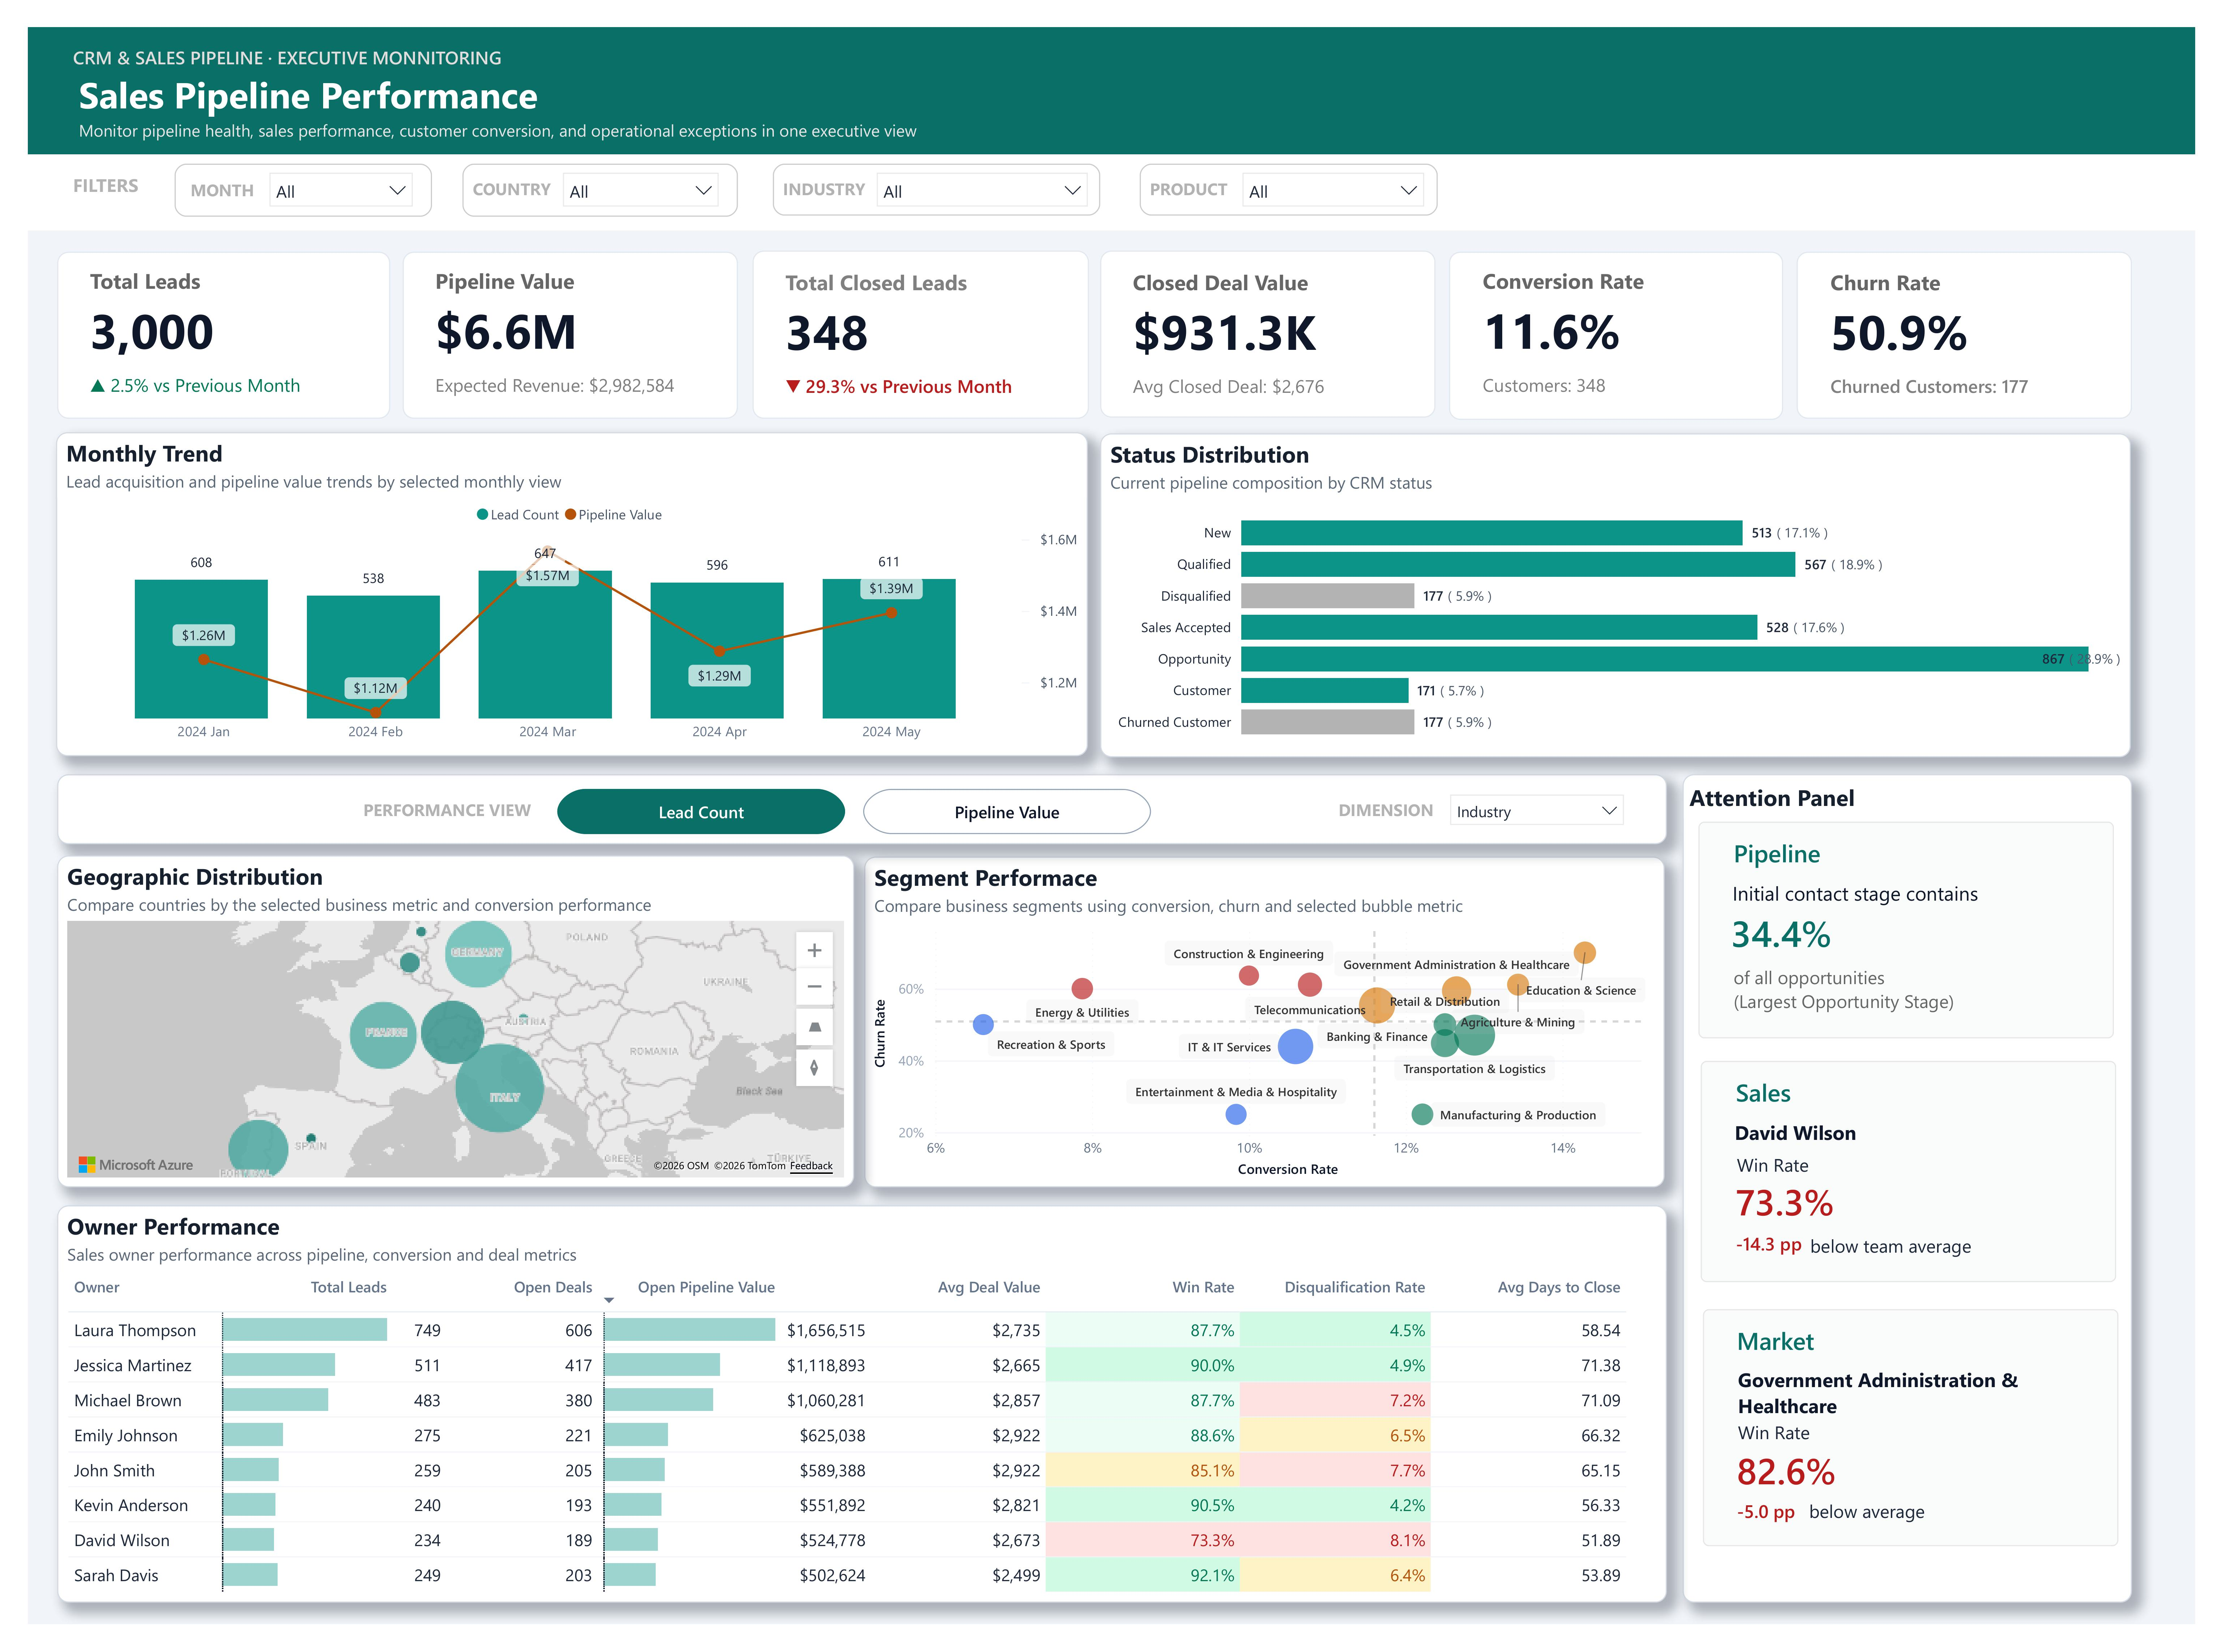

The dashboard page shown, as its layout file describes it:
{"tool":"powerbi","page":{"name":"Dashboard","canvas":[1920,1415],"ordinal":0},"visuals":[{"type":"shape","box":[660,121,290,46],"z":0,"group":"g4"},{"type":"shape","box":[985,121,264,46],"z":0,"group":"g3"},{"type":"shape","box":[385.4,121.1,243.8,46.5],"z":0,"group":"g2"},{"type":"shape","box":[130,121.2,227.5,46.2],"z":0,"group":"g1"},{"type":"shape","box":[642.1,198,297.6,148.8],"z":0},{"type":"slicer","fields":{"Values":["DimCountry.Country"]},"box":[464.7,118.8,157.8,46.5],"z":1000,"group":"g2"},{"type":"slicer","fields":{"Values":["DimIndustry.Industry"]},"box":[741.8,118.8,207,43.6],"z":1000,"group":"g4"},{"type":"slicer","fields":{"Values":["DimDate.Month"]},"box":[204,119,147.3,46.2],"z":1000,"group":"g1"},{"type":"slicer","fields":{"Values":["DimProduct.Product"]},"box":[1066.1,119.2,181.2,43.6],"z":1000,"group":"g3"},{"type":"shape","box":[25.8,198.6,295,148.3],"z":1000},{"type":"textbox","box":[664.4,128,108.4,34.6],"z":2000,"group":"g4"},{"type":"textbox","box":[989,128,102.7,35.3],"z":2000,"group":"g3"},{"type":"textbox","box":[389.1,128.1,91.1,36.4],"z":2000,"group":"g2"},{"type":"textbox","box":[139.2,128.8,81.5,47.5],"z":2000,"group":"g1"},{"type":"shape","box":[332.4,198.6,296.7,148.3],"z":2000},{"type":"shape","box":[950,197.8,296.7,148.3],"z":3000},{"type":"shape","box":[1259.2,199.4,296.2,148.8],"z":4000},{"type":"shape","box":[1567.4,198.6,296.7,148.3],"z":5000},{"type":"textbox","box":[0,0,1920,112.5],"z":6000},{"type":"textbox","box":[40,76,767.5,37.5],"z":7000},{"type":"textbox","box":[40,32,577.5,60],"z":8000},{"type":"cardVisual","fields":{"Data":["_Measures.Total Leads"]},"box":[26.2,198,296.2,191.1],"z":9000},{"type":"cardVisual","fields":{"Data":["_Measures.Open Pipeline Value"]},"box":[331.6,198,296.2,192.6],"z":10000},{"type":"cardVisual","fields":{"Data":["_Measures.Conversion Rate"]},"box":[1259.8,198,297.6,192.6],"z":11000},{"type":"cardVisual","fields":{"Data":["_Measures.Churn Rate"]},"box":[1567.5,198,295.9,193.3],"z":13000},{"type":"scatterChart","title":"Segment Performace","fields":{"Category":["DimIndustry.Industry"],"Size":["_Measures.Total Leads"],"X":["_Measures.Conversion Rate"],"Y":["_Measures.Churn Rate"]},"box":[740.9,734.6,709.6,293.8],"z":14000},{"type":"shape","box":[26,662,1426,62],"z":15000},{"type":"advancedSlicerVisual","title":"Dimension","fields":{"Values":["Dashboard View.Dashboard View"]},"box":[464,670,536.8,50.1],"z":16000},{"type":"lineClusteredColumnComboChart","title":"Monthly Trend","fields":{"Category":["DimDate.Month"],"Y":["_Measures.Total Leads"],"Y2":["_Measures.Open Pipeline Value"]},"box":[25,359.5,913.8,286.3],"z":17000},{"type":"cardVisual","fields":{"Data":["_Measures.Closed Deal Value"]},"box":[950,198.9,296.2,192.6],"z":18000},{"type":"cardVisual","fields":{"Data":["_Measures.Closed Leads"]},"box":[641.8,198,334,193.3],"z":19000},{"type":"textbox","box":[0,112.5,1920,67.5],"z":21000},{"type":"group","id":"g1","title":"Group 1","box":[130,119,227.5,57.2],"z":22000},{"type":"group","id":"g2","title":"Group 1","box":[385.4,118.8,243.8,48.8],"z":23000},{"type":"group","id":"g3","title":"Group 1","box":[985,119.2,264,47.8],"z":24000},{"type":"group","id":"g4","title":"Group 1","box":[660,118.8,290,48.2],"z":25000},{"type":"barChart","title":"Status Distribution","fields":{"Category":["DimStatus.Status"],"Y":["_Measures.Total Leads"]},"box":[949.6,360.3,913.8,286.3],"z":26000},{"type":"shape","title":"Attention Panel","box":[1466,662,398,734],"z":27000},{"type":"azureMap","title":"Geographic Distribution","fields":{"Category":["DimCountry.Country"],"Size":["_Measures.Total Leads"]},"box":[26,734,706,294],"z":28000},{"type":"tableEx","title":"Owner Performance","fields":{"Values":["DimOwner.Owner","_Measures.Total Leads","_Measures.Total Leads (2)","_Measures.Open Deals","_Measures.Open Pipeline Value","_Measures.Open Pipeline Value (2)","_Measures.Avg Deal Value","_Measures.Win Rate","_Measures.Disqualification Rate","_Measures.Avg Days to Close"]},"box":[26,1044,1426,352],"z":29000},{"type":"group","id":"g5","title":"Group 2","box":[1480,704,368,192],"z":30000},{"type":"shape","box":[1480,704,368,192],"z":31000,"group":"g5"},{"type":"group","id":"g6","title":"Group 2","box":[1482,916,368,196],"z":31000},{"type":"shape","box":[1482,916,368,196],"z":31000,"group":"g6"},{"type":"shape","box":[1484,1136,368,210],"z":31000,"group":"g7"},{"type":"group","id":"g7","title":"Group 2","box":[1484,1136,368,210],"z":32000},{"type":"slicer","fields":{"Values":["Segment Dimension.Segment Dimension"]},"box":[1250,670,174,62],"z":33000},{"type":"textbox","box":[1506,712,122,50],"z":33000,"group":"g5"},{"type":"textbox","box":[1508,924,122,50],"z":33000,"group":"g6"},{"type":"textbox","box":[1509,1144,122,50],"z":33000,"group":"g7"},{"type":"textbox","box":[1156,678,124,36],"z":34000},{"type":"cardVisual","fields":{"Data":["_Measures.Attention - Pipeline Stage"]},"box":[1481,734,298,62],"z":34000,"group":"g5"},{"type":"cardVisual","fields":{"Data":["_Measures.Attention - Sales Owner"]},"box":[1483,946,298,62],"z":34000,"group":"g6"},{"type":"cardVisual","fields":{"Data":["_Measures.Attention - Market Segment"]},"box":[1486,1142,352,132],"z":34000,"group":"g7"},{"type":"textbox","box":[292,678,236,38],"z":35000},{"type":"cardVisual","fields":{"Data":["_Measures.Attention - Pipeline %"]},"box":[1480,755,178,90],"z":35000,"group":"g5"},{"type":"cardVisual","fields":{"Data":["_Measures.Attention - Sales Win Rate"]},"box":[1484,993,178,90],"z":35000,"group":"g6"},{"type":"cardVisual","fields":{"Data":["_Measures.Attention - Market Win Rate"]},"box":[1485,1231,178,90],"z":35000,"group":"g7"},{"type":"textbox","box":[1506,826,300,56],"z":36000,"group":"g5"},{"type":"textbox","box":[1574,1064,162,34],"z":36000,"group":"g6"},{"type":"textbox","box":[1573,1299,162,34],"z":36000,"group":"g7"},{"type":"textbox","box":[1509,992,300,36],"z":36250,"group":"g6"},{"type":"textbox","box":[1510,1229,300,36],"z":36250,"group":"g7"},{"type":"cardVisual","fields":{"Data":["_Measures.Attention - Sales Delta"]},"box":[1484,1046,132,60],"z":36500,"group":"g6"},{"type":"cardVisual","fields":{"Data":["_Measures.Attention - Market Delta"]},"box":[1485,1283,132,60],"z":36500,"group":"g7"}]}

Visuals, with their boxes on the page's 1920x1415 design canvas (x1, y1, x2, y2). These are canvas units, not pixel positions in the 2223x1652 screenshot, which may show the page scaled, cropped or inside an application window:
shape: box(660, 121, 950, 167)
shape: box(985, 121, 1249, 167)
shape: box(385, 121, 629, 168)
shape: box(130, 121, 358, 167)
shape: box(642, 198, 940, 347)
slicer - DimCountry.Country: box(465, 119, 622, 165)
slicer - DimIndustry.Industry: box(742, 119, 949, 162)
slicer - DimDate.Month: box(204, 119, 351, 165)
slicer - DimProduct.Product: box(1066, 119, 1247, 163)
shape: box(26, 199, 321, 347)
textbox: box(664, 128, 773, 163)
textbox: box(989, 128, 1092, 163)
textbox: box(389, 128, 480, 164)
textbox: box(139, 129, 221, 176)
shape: box(332, 199, 629, 347)
shape: box(950, 198, 1247, 346)
shape: box(1259, 199, 1555, 348)
shape: box(1567, 199, 1864, 347)
textbox: box(0, 0, 1920, 112)
textbox: box(40, 76, 808, 114)
textbox: box(40, 32, 618, 92)
cardVisual - _Measures.Total Leads: box(26, 198, 322, 389)
cardVisual - _Measures.Open Pipeline Value: box(332, 198, 628, 391)
cardVisual - _Measures.Conversion Rate: box(1260, 198, 1557, 391)
cardVisual - _Measures.Churn Rate: box(1568, 198, 1863, 391)
"Segment Performace" scatterChart: box(741, 735, 1450, 1028)
shape: box(26, 662, 1452, 724)
"Dimension" advancedSlicerVisual: box(464, 670, 1001, 720)
"Monthly Trend" lineClusteredColumnComboChart: box(25, 360, 939, 646)
cardVisual - _Measures.Closed Deal Value: box(950, 199, 1246, 392)
cardVisual - _Measures.Closed Leads: box(642, 198, 976, 391)
textbox: box(0, 112, 1920, 180)
"Group 1" group: box(130, 119, 358, 176)
"Group 1" group: box(385, 119, 629, 168)
"Group 1" group: box(985, 119, 1249, 167)
"Group 1" group: box(660, 119, 950, 167)
"Status Distribution" barChart: box(950, 360, 1863, 647)
"Attention Panel" shape: box(1466, 662, 1864, 1396)
"Geographic Distribution" azureMap: box(26, 734, 732, 1028)
"Owner Performance" tableEx: box(26, 1044, 1452, 1396)
"Group 2" group: box(1480, 704, 1848, 896)
shape: box(1480, 704, 1848, 896)
"Group 2" group: box(1482, 916, 1850, 1112)
shape: box(1482, 916, 1850, 1112)
shape: box(1484, 1136, 1852, 1346)
"Group 2" group: box(1484, 1136, 1852, 1346)
slicer - Segment Dimension.Segment Dimension: box(1250, 670, 1424, 732)
textbox: box(1506, 712, 1628, 762)
textbox: box(1508, 924, 1630, 974)
textbox: box(1509, 1144, 1631, 1194)
textbox: box(1156, 678, 1280, 714)
cardVisual - _Measures.Attention - Pipeline Stage: box(1481, 734, 1779, 796)
cardVisual - _Measures.Attention - Sales Owner: box(1483, 946, 1781, 1008)
cardVisual - _Measures.Attention - Market Segment: box(1486, 1142, 1838, 1274)
textbox: box(292, 678, 528, 716)
cardVisual - _Measures.Attention - Pipeline %: box(1480, 755, 1658, 845)
cardVisual - _Measures.Attention - Sales Win Rate: box(1484, 993, 1662, 1083)
cardVisual - _Measures.Attention - Market Win Rate: box(1485, 1231, 1663, 1321)
textbox: box(1506, 826, 1806, 882)
textbox: box(1574, 1064, 1736, 1098)
textbox: box(1573, 1299, 1735, 1333)
textbox: box(1509, 992, 1809, 1028)
textbox: box(1510, 1229, 1810, 1265)
cardVisual - _Measures.Attention - Sales Delta: box(1484, 1046, 1616, 1106)
cardVisual - _Measures.Attention - Market Delta: box(1485, 1283, 1617, 1343)
